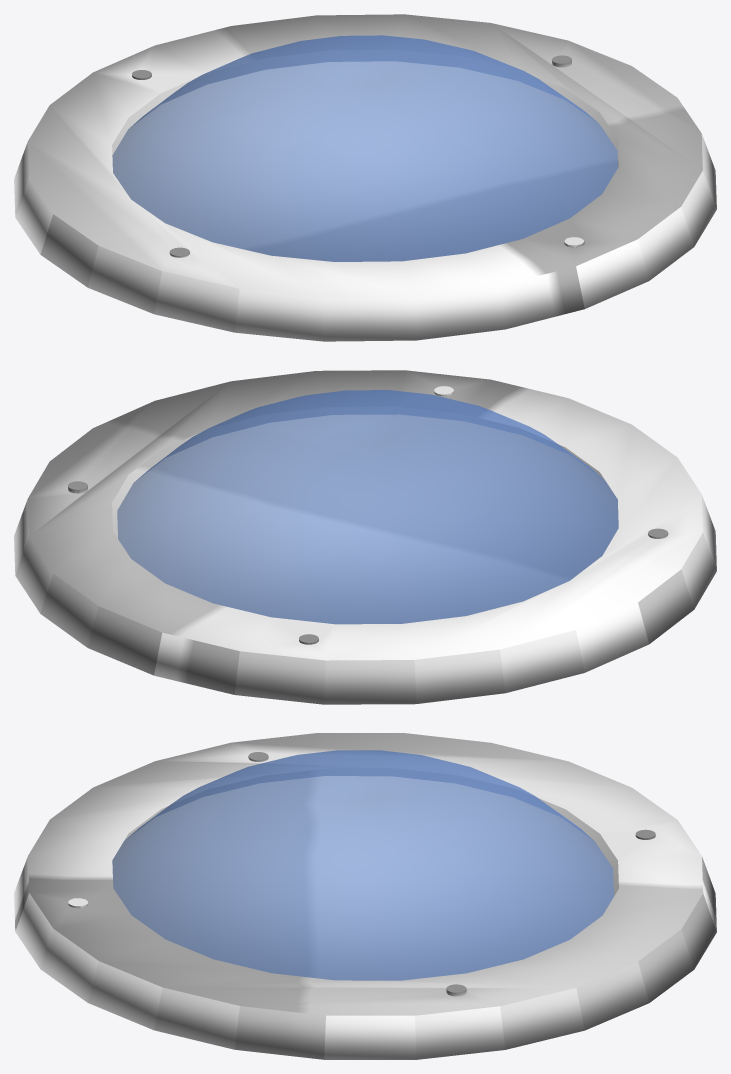
The model's file is light-transformed.glb.
3 renders of one model, top to bottom at view 1: azimuth 30°, elevation 25°; view 2: azimuth 150°, elevation 25°; view 3: azimuth 270°, elevation 25°, orthographic.
Visible parts, largest first — view 1: Light; view 2: Light; view 3: Light.
Part boxes in pixels (x1,y1,x2,y2): Light: (14,14,716,341); Light: (14,370,716,704); Light: (14,733,716,1059).
Size of the model in its own units: 0.4453 by 0.0851 by 0.4453.
3 materials, 2 textured.
